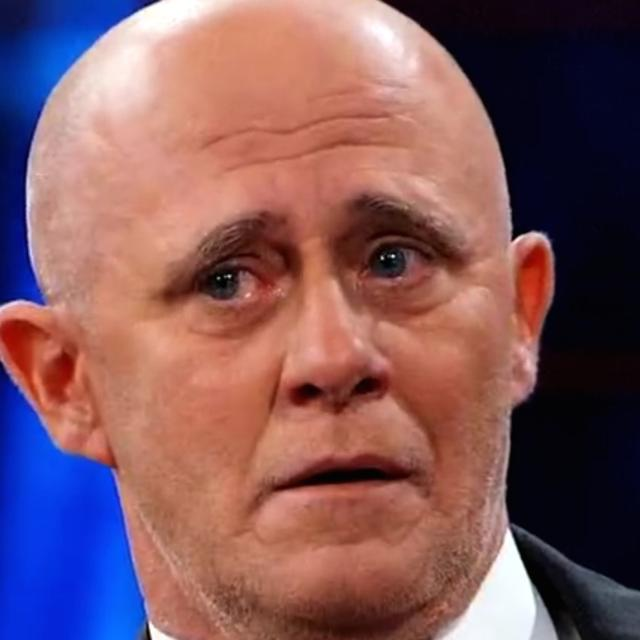Depress: (23, 2, 521, 639)
